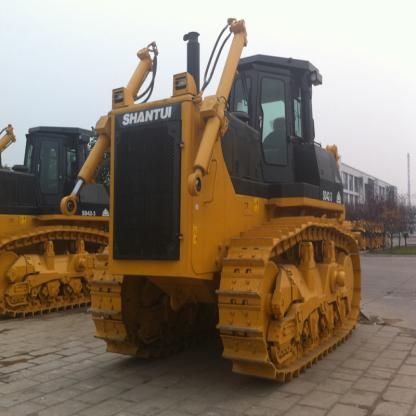bull_dozer/loader/grader: (88, 13, 364, 386)
